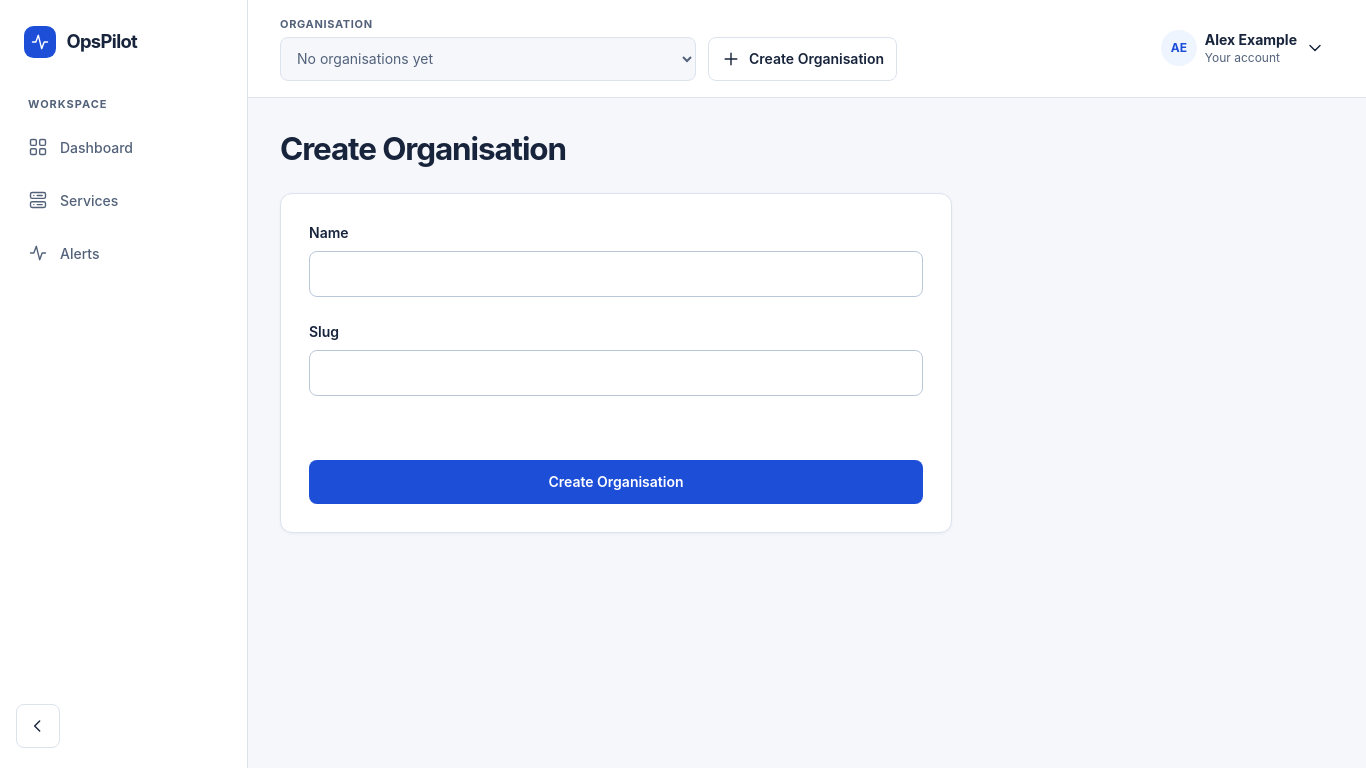
Test case: creation updates selector/cache, selects the new organisation and requests its services with a bearer token
The image size is (1366, 768).
Type "New team" into the field labelled "Name" at (616,274), box [309,251,923,297]
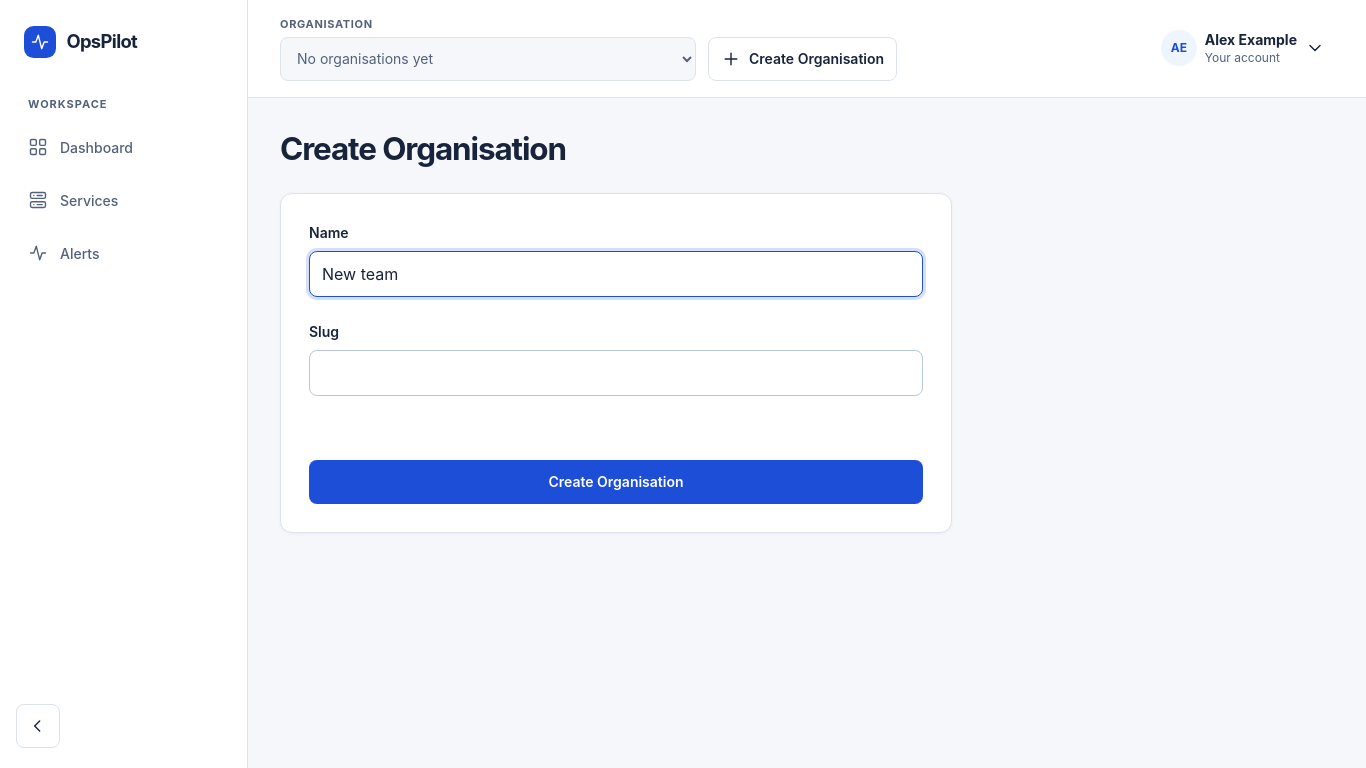
Type "new-team" into the field labelled "Slug" at (616,373), box [309,350,923,396]
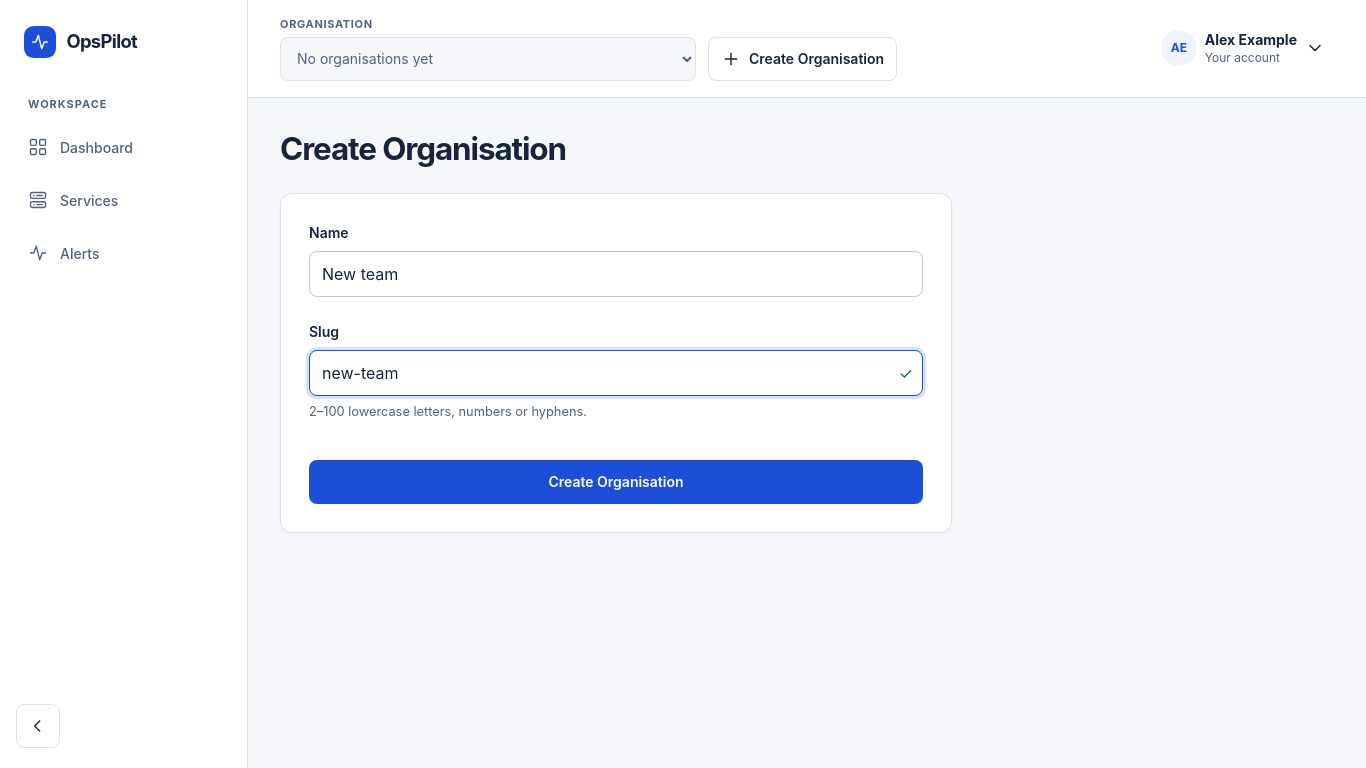
Click the button "Create Organisation" at (616,482), box [309,460,923,504]
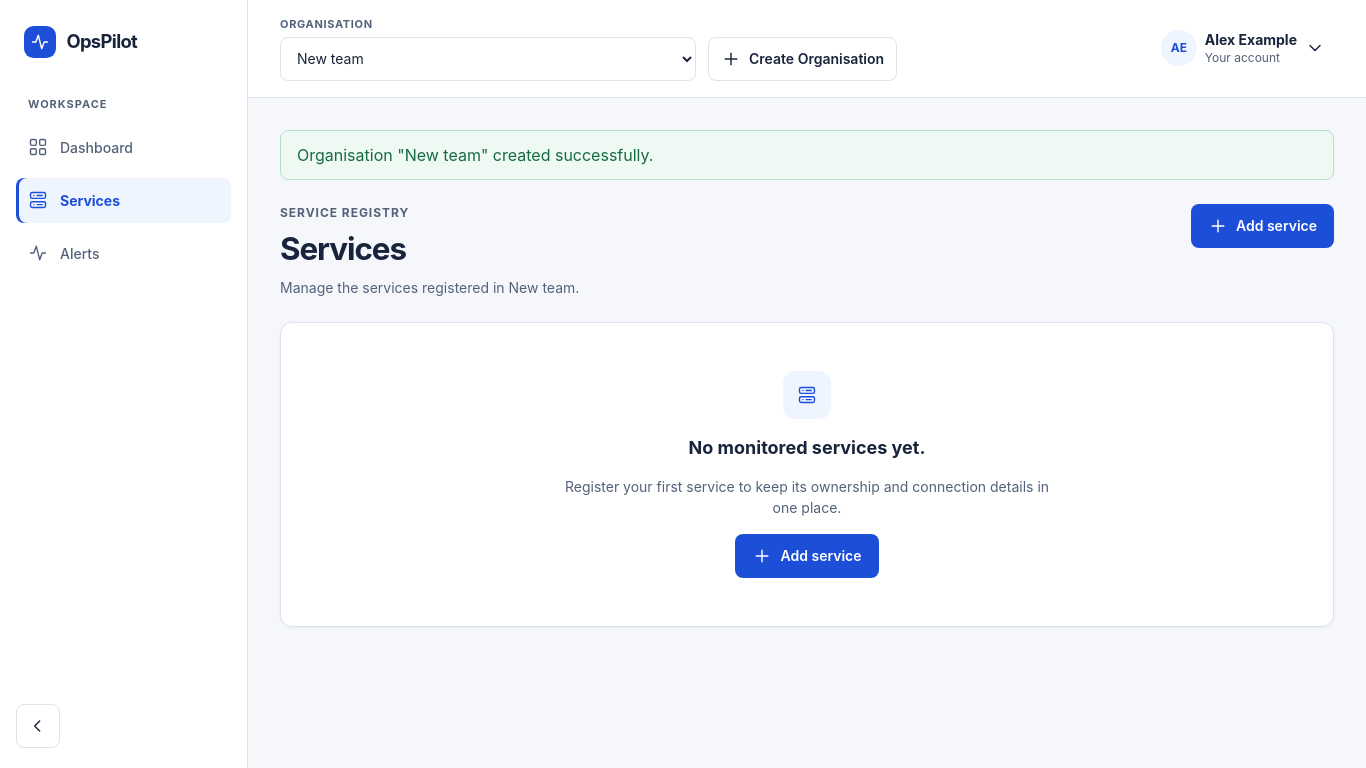
Expected: the text "Organisation \"New team\" created successfully." is shown, [280,130,1334,180]
Expected: the dropdown labelled "Organisation" shows "New team", [280,36,696,80]
